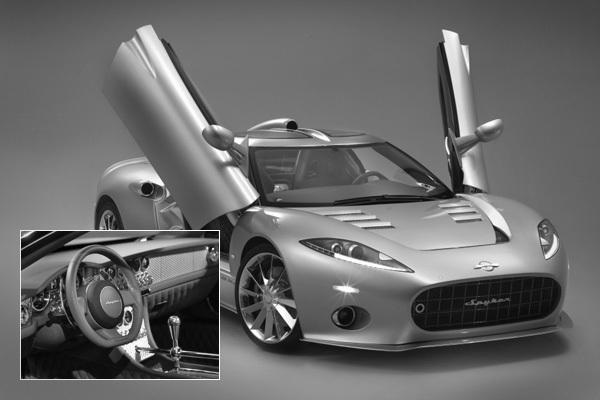car: (91, 23, 575, 357)
